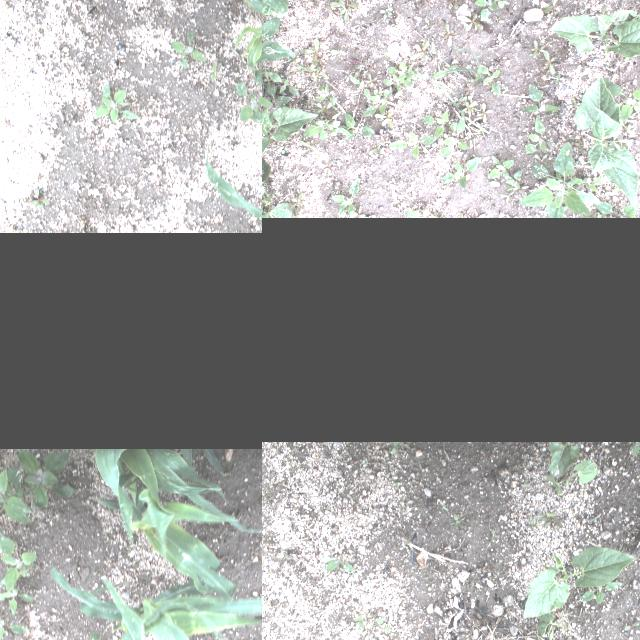crop: (96, 452, 262, 596), (49, 567, 262, 640), (574, 72, 636, 208), (521, 546, 635, 616), (200, 143, 262, 232), (262, 83, 317, 174), (548, 9, 640, 60), (513, 609, 609, 640), (262, 18, 293, 102), (545, 458, 597, 494), (262, 160, 291, 218), (548, 442, 580, 480), (592, 198, 638, 218)
weed: (416, 75, 502, 153), (520, 142, 600, 218), (16, 449, 76, 515), (413, 30, 483, 82), (0, 449, 28, 545), (86, 84, 140, 122), (0, 535, 37, 589), (601, 78, 640, 124), (388, 131, 437, 159), (170, 27, 204, 67), (439, 158, 481, 190), (233, 81, 262, 126), (440, 114, 468, 158), (522, 84, 560, 116), (331, 176, 359, 218), (522, 118, 554, 154), (336, 113, 374, 141), (0, 586, 33, 617), (422, 110, 458, 138), (579, 582, 621, 604), (266, 71, 300, 97), (301, 118, 341, 140), (362, 89, 392, 117), (0, 608, 26, 640), (476, 62, 500, 96), (386, 62, 422, 82), (316, 554, 356, 572), (244, 48, 262, 86), (486, 155, 514, 179), (27, 184, 51, 208), (382, 74, 414, 92), (456, 13, 484, 32), (349, 76, 371, 100), (568, 178, 604, 192), (302, 36, 318, 66), (472, 0, 497, 19), (501, 170, 521, 192), (315, 84, 335, 106), (204, 61, 220, 87), (409, 41, 429, 61), (403, 208, 439, 218), (616, 118, 636, 136), (348, 60, 364, 80), (352, 614, 372, 630), (542, 52, 556, 74), (476, 105, 492, 124), (374, 112, 392, 128), (374, 618, 394, 632), (305, 66, 327, 78), (443, 22, 453, 48), (537, 517, 563, 527), (338, 0, 349, 23), (530, 39, 544, 57), (289, 193, 303, 211), (512, 181, 526, 199), (298, 140, 318, 152), (540, 0, 559, 12), (77, 631, 102, 640), (322, 160, 336, 176), (460, 101, 476, 115), (369, 139, 385, 153), (314, 100, 328, 116), (449, 513, 463, 529), (629, 3, 640, 23), (364, 72, 376, 90), (496, 192, 514, 204), (326, 6, 340, 20), (374, 128, 388, 142), (550, 73, 566, 85), (352, 205, 366, 218), (329, 2, 359, 8), (378, 8, 392, 20), (464, 132, 474, 148), (296, 62, 306, 78), (388, 442, 404, 452), (622, 621, 638, 631), (420, 17, 432, 29), (312, 66, 320, 84), (490, 0, 508, 8), (489, 528, 499, 542), (603, 188, 619, 196), (262, 72, 270, 88), (631, 442, 640, 456), (439, 498, 448, 512), (540, 40, 552, 50), (449, 0, 460, 9), (631, 107, 640, 118), (329, 49, 345, 55), (458, 210, 470, 218), (391, 479, 402, 486), (600, 4, 606, 16), (306, 0, 318, 6), (359, 459, 367, 467), (292, 208, 298, 218), (280, 147, 286, 155), (592, 518, 598, 526), (475, 214, 485, 218), (329, 56, 333, 60)
